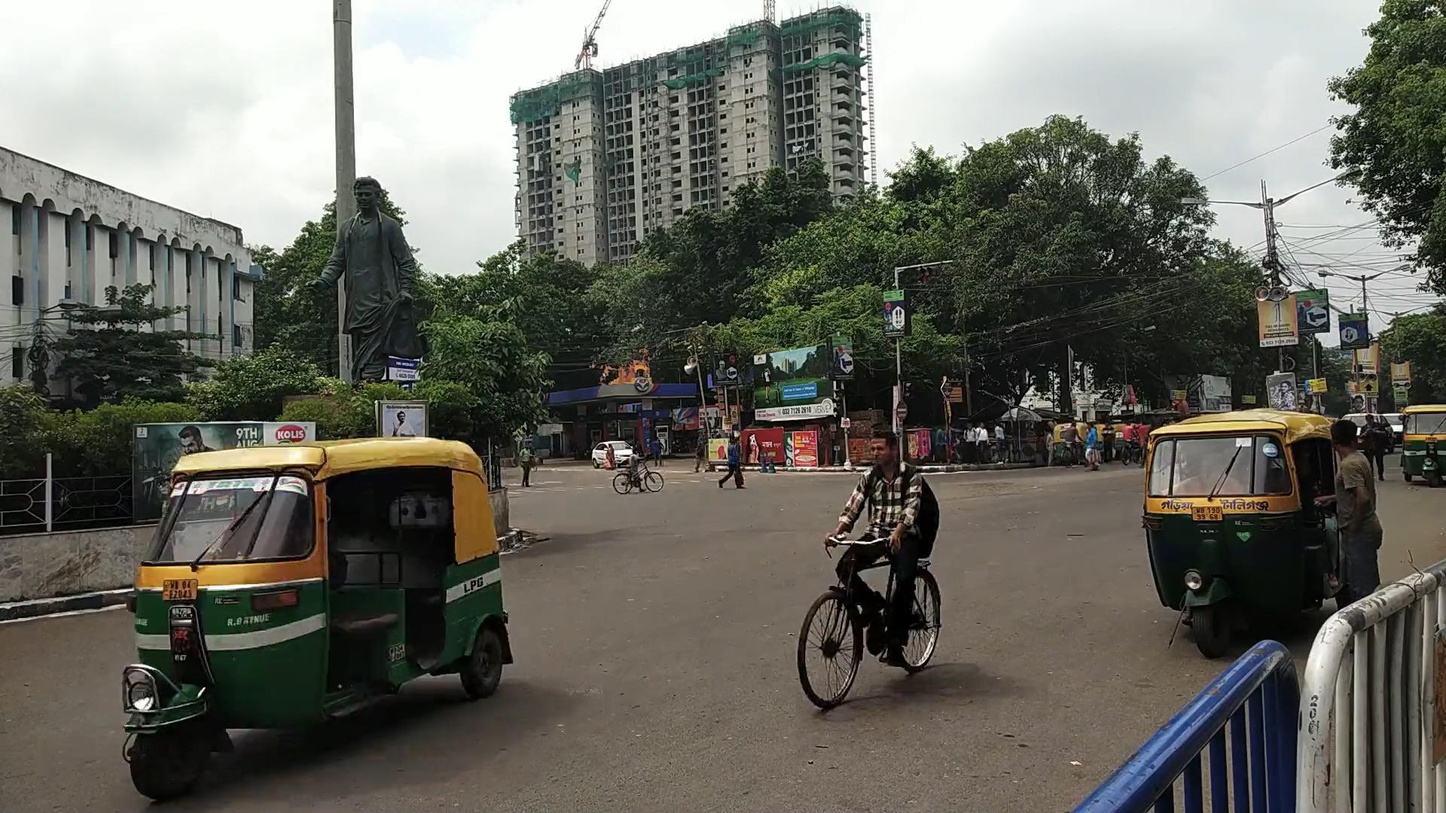bicyclist: (798, 430, 941, 709)
no-helmet: (869, 430, 898, 466)
